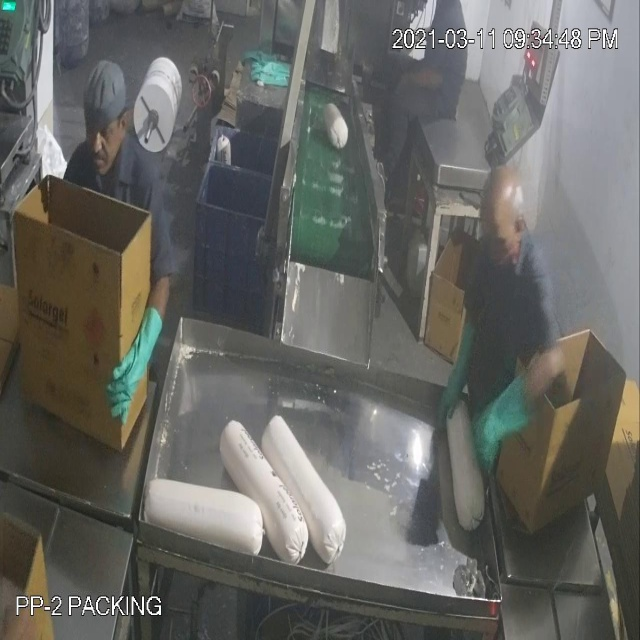Guantes: (94, 291, 169, 438), (437, 307, 479, 432)
Sin_guantes: (395, 53, 463, 104)
